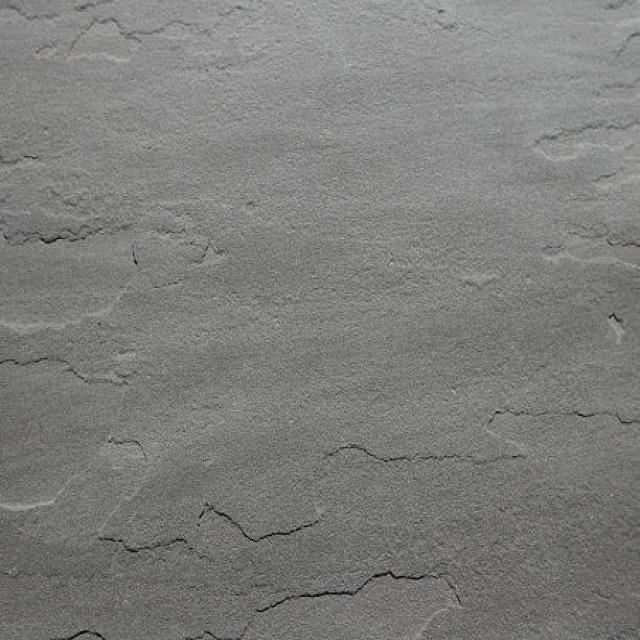Sedimentary: (1, 3, 638, 638)
